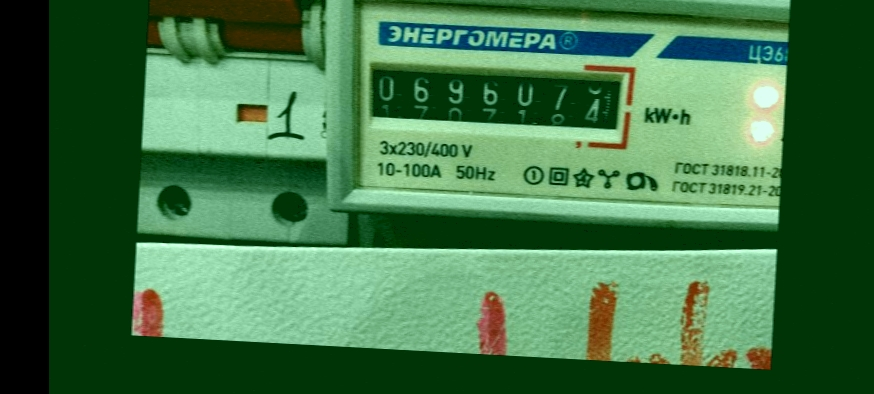0: (517, 75, 537, 106), (378, 71, 397, 100)
4: (585, 94, 602, 123)
6: (482, 75, 502, 105), (413, 71, 433, 100)
7: (553, 79, 571, 110)
9: (448, 74, 466, 103)
screen: (354, 42, 643, 147)
